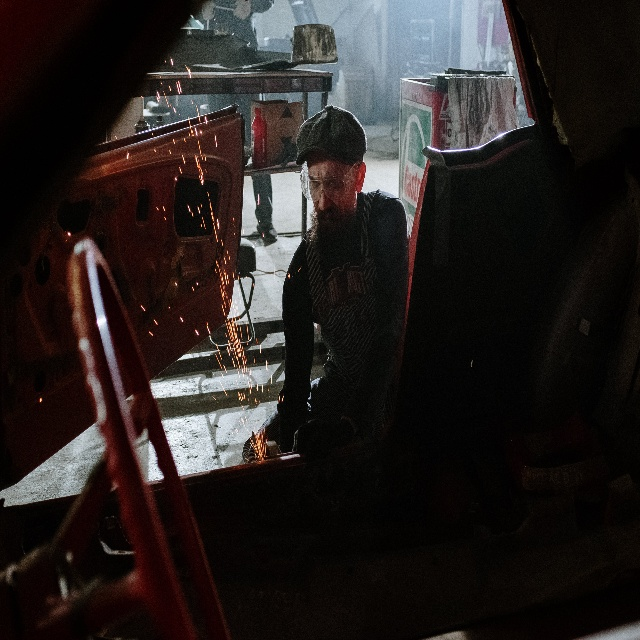Gafas: (299, 158, 359, 201)
Guantes: (292, 417, 341, 459)
